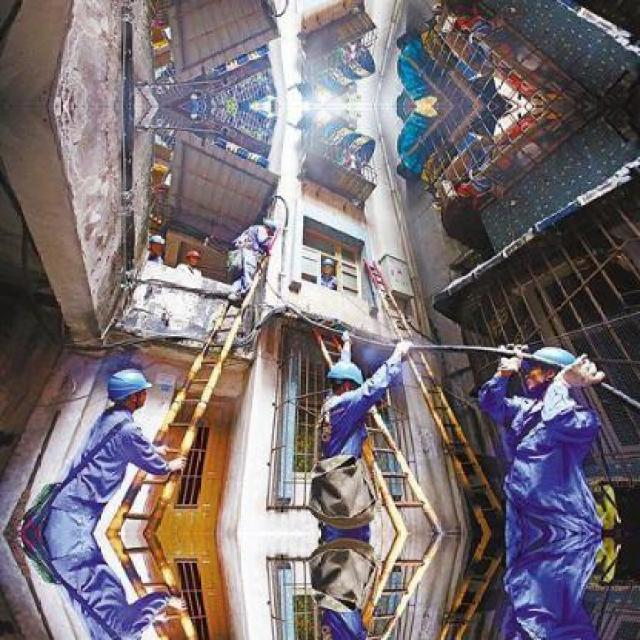helmet: (521, 339, 574, 384), (104, 363, 151, 410), (325, 357, 361, 394), (258, 214, 277, 234), (319, 255, 333, 277), (186, 244, 200, 266)
